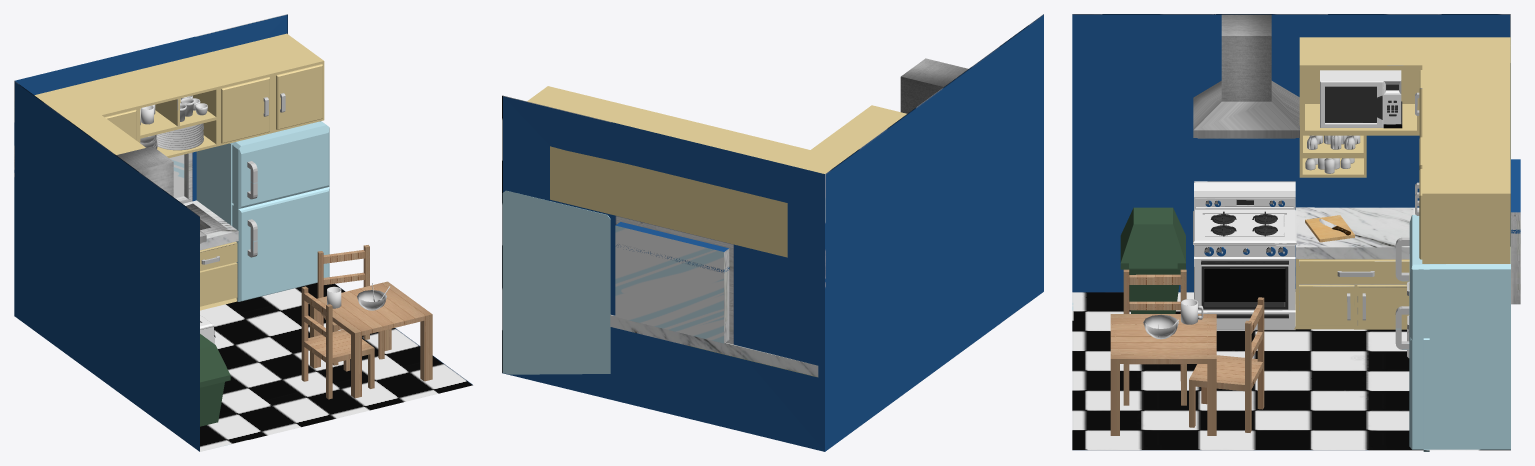
File: KitchenGBFILE.glb
3 renders of one model, left to right at view 1: azimuth 30°, elevation 25°; view 2: azimuth 150°, elevation 25°; view 3: azimuth 270°, elevation 25°, orthographic. The views are drawn at different scales.
Visible parts, largest first — view 1: Room, Cupboards, Fridge, Plant, Counter, utensils, Trash Can, Cube; view 2: Room, Cupboards, Fridge, Counter, Cube; view 3: Room, Cupboards, Fridge, Stove, Counter, Plant, Cube, Trash Can, Microwave, utensils, Chopping Board, Button.
Boxes of the visible parts, <box> form: Room: <box>14,14,472,451</box>; Cupboards: <box>34,33,324,157</box>; Fridge: <box>196,121,329,301</box>; Plant: <box>301,245,432,399</box>; Counter: <box>183,200,238,310</box>; utensils: <box>140,95,390,310</box>; Trash Can: <box>200,334,230,426</box>; Cube: <box>116,146,206,243</box>; Room: <box>502,14,1043,451</box>; Cupboards: <box>527,86,906,257</box>; Fridge: <box>502,190,610,374</box>; Counter: <box>610,315,818,377</box>; Cube: <box>900,58,968,113</box>; Room: <box>1072,14,1520,450</box>; Cupboards: <box>1299,37,1510,263</box>; Fridge: <box>1395,215,1510,451</box>; Stove: <box>1193,181,1296,330</box>; Counter: <box>1294,207,1419,357</box>; Plant: <box>1110,269,1264,435</box>; Cube: <box>1193,14,1299,138</box>; Trash Can: <box>1120,207,1185,313</box>; Microwave: <box>1320,70,1402,128</box>; utensils: <box>1143,135,1360,339</box>; Chopping Board: <box>1305,215,1354,242</box>; Button: <box>1204,200,1287,256</box>.
Size of the model in its own units: 13.26 by 11 by 15.91.
12 materials, 12 textured.
